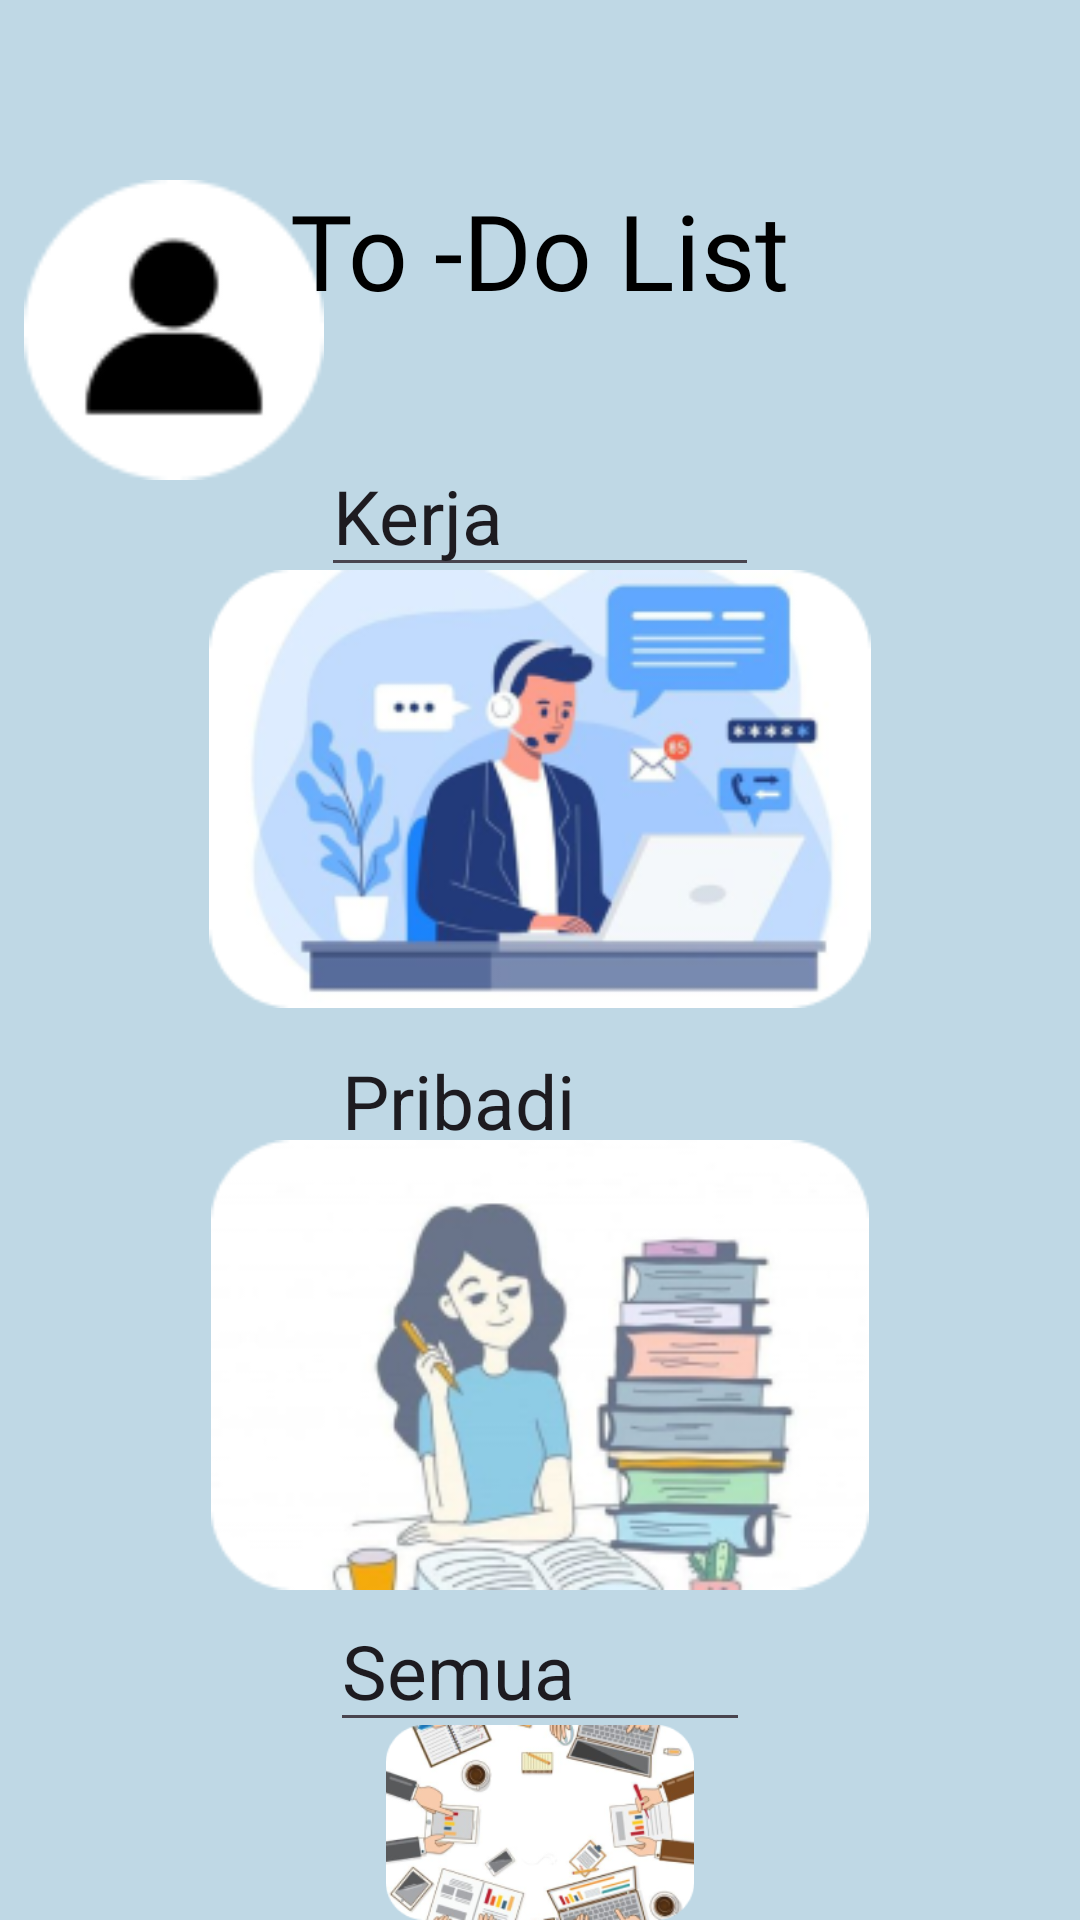

Icons on this 1080 x 1920 Android screen, each with its box as (x1, y1, x2, y2):
profile: (24, 180, 333, 480)
